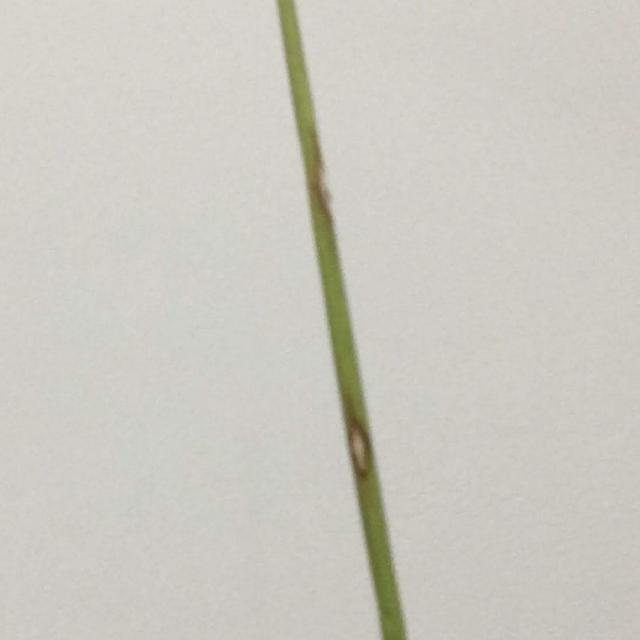Blast: (352, 424, 370, 474), (319, 158, 331, 218)
